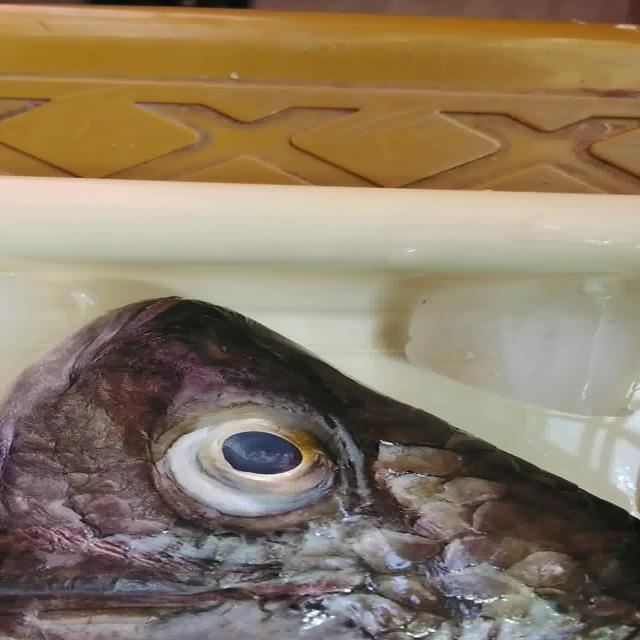Fresh: (71, 367, 405, 541)
